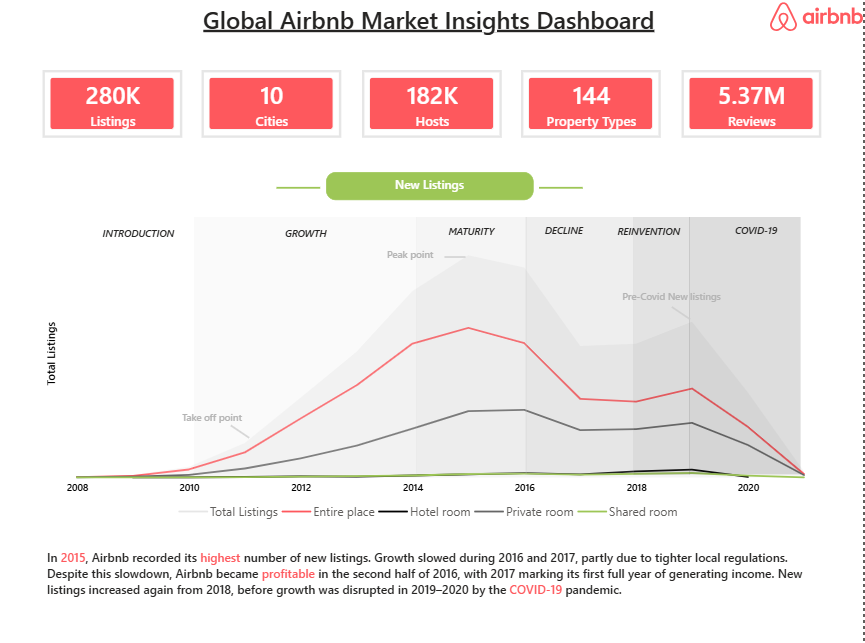

This screenshot's page, from the dashboard's own definition file:
{"tool":"powerbi","page":{"name":"Overview","canvas":[960,720],"ordinal":0},"visuals":[{"type":"textbox","box":[221.2,0,517.5,105],"z":0},{"type":"image","box":[856.7,0,103.3,41.7],"z":1000},{"type":"cardVisual","fields":{"Data":["CountNonNull(Listings.listing_id)"]},"box":[47.8,79.4,155,75],"z":2000},{"type":"cardVisual","fields":{"Data":["Count(Listings.city)"]},"box":[225.3,79.4,155,75],"z":3000},{"type":"cardVisual","fields":{"Data":["Count(Listings.host_id)"]},"box":[402.8,79.4,155,75],"z":4000},{"type":"cardVisual","fields":{"Data":["Count(Listings.property_type)"]},"box":[580.3,79.4,155,75],"z":5000},{"type":"cardVisual","fields":{"Data":["Count(Reviews.review_id)"]},"box":[757.8,79.4,155,75],"z":6000},{"type":"lineChart","fields":{"Y":["CountNonNull(Listings.listing_id)","Listings.Entire place","Listings.Hotel room","Listings.Private room","Listings.Shared room"],"Category":["Listings.host_since.Variation.Date Hierarchy.Year"]},"box":[49,242.9,862.6,346.3],"z":7000},{"type":"textbox","box":[363.8,193.7,230.7,31.2],"z":8000},{"type":"shape","box":[309.2,178,48.6,65.1],"z":9000},{"type":"shape","box":[600.5,178,48.6,65.1],"z":10000},{"type":"shape","box":[93.7,242.5,122.9,286.1],"z":11000},{"type":"shape","box":[216.4,242.8,247.2,286],"z":12000},{"type":"shape","box":[462.9,243.4,123.4,285.6],"z":13000},{"type":"shape","box":[585.8,242.9,120.5,285.9],"z":14000},{"type":"shape","box":[705.8,242.5,62.7,286.5],"z":15000},{"type":"shape","box":[767.2,243.1,124.1,286.2],"z":16000},{"type":"textbox","box":[93.3,244.6,122.8,37.4],"z":17000},{"type":"textbox","box":[48.3,606.7,865,95],"z":18000},{"type":"textbox","box":[216.1,244.6,248.2,60.3],"z":19000},{"type":"textbox","box":[462.9,243.4,122.8,61.5],"z":20000},{"type":"textbox","box":[567.4,242,121.4,325.4],"z":21000},{"type":"textbox","box":[673.4,243.4,97.1,31.6],"z":22000},{"type":"textbox","box":[789.7,241.6,102.2,45.2],"z":23000},{"type":"shape","box":[257.2,458,22.3,47],"z":24000},{"type":"textbox","box":[197.9,449.5,97.1,31.6],"z":25000},{"type":"textbox","box":[628.3,315,237.6,36.4],"z":26000},{"type":"shape","box":[746.2,326.6,22.3,47],"z":27000},{"type":"textbox","box":[413.7,268.7,87,36.8],"z":28000},{"type":"shape","box":[495.7,266.1,23.6,42.2],"z":29000}]}

Visuals, with their boxes in screenshot pixels (x1, y1, x2, y2), scaled from the page's 960x720 canvas onto the 865x643 screenshot:
textbox: locate(199, 0, 666, 94)
image: locate(772, 0, 864, 37)
cardVisual - CountNonNull(Listings.listing_id): locate(43, 71, 183, 138)
cardVisual - Count(Listings.city): locate(203, 71, 343, 138)
cardVisual - Count(Listings.host_id): locate(363, 71, 503, 138)
cardVisual - Count(Listings.property_type): locate(523, 71, 663, 138)
cardVisual - Count(Reviews.review_id): locate(683, 71, 822, 138)
lineChart - CountNonNull(Listings.listing_id) x Listings.Entire place: locate(44, 217, 821, 526)
textbox: locate(328, 173, 536, 201)
shape: locate(279, 159, 322, 217)
shape: locate(541, 159, 585, 217)
shape: locate(84, 217, 195, 472)
shape: locate(195, 217, 418, 472)
shape: locate(417, 217, 528, 472)
shape: locate(528, 217, 636, 472)
shape: locate(636, 217, 692, 472)
shape: locate(691, 217, 803, 473)
textbox: locate(84, 218, 195, 252)
textbox: locate(44, 542, 823, 627)
textbox: locate(195, 218, 418, 272)
textbox: locate(417, 217, 528, 272)
textbox: locate(511, 216, 621, 507)
textbox: locate(607, 217, 694, 246)
textbox: locate(712, 216, 804, 256)
shape: locate(232, 409, 252, 451)
textbox: locate(178, 401, 266, 430)
textbox: locate(566, 281, 780, 314)
shape: locate(672, 292, 692, 334)
textbox: locate(373, 240, 451, 273)
shape: locate(447, 238, 468, 275)
